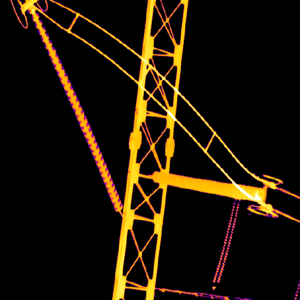insulator: (28, 8, 121, 212), (153, 166, 264, 202)
